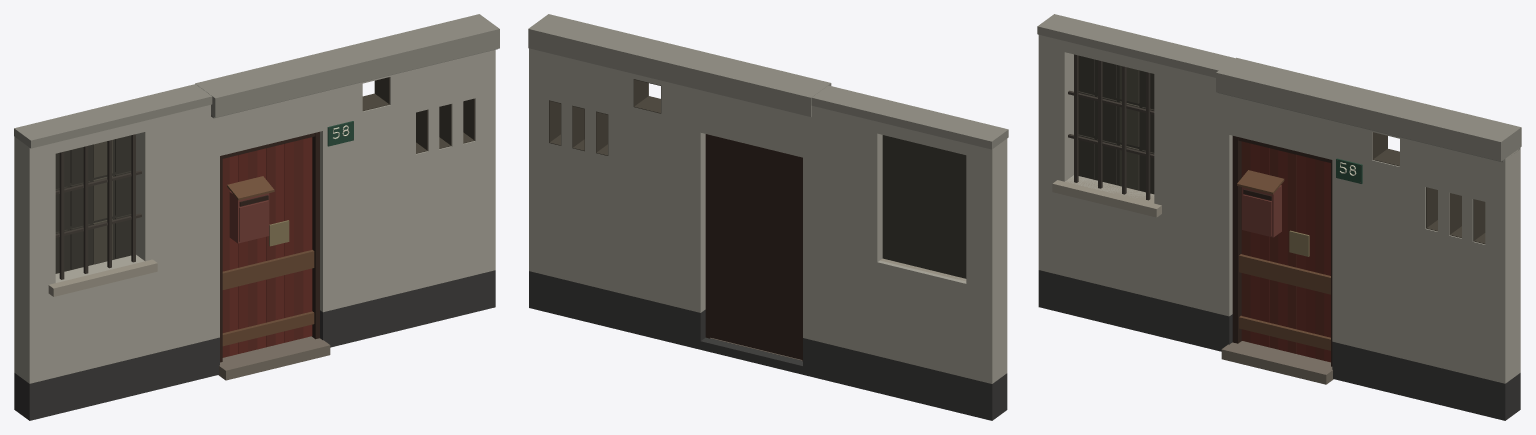
Rendered from yangpu-longjiang-58-courtyard-gate-lod.glb.
3 renders of one model, left to right at view 1: azimuth 30°, elevation 25°; view 2: azimuth 150°, elevation 25°; view 3: azimuth 330°, elevation 25°, orthographic.
Visible parts, largest first — view 1: 龙江路58号住宅院门、门牌与院墙通气孔; view 2: 龙江路58号住宅院门、门牌与院墙通气孔; view 3: 龙江路58号住宅院门、门牌与院墙通气孔.
Boxes of the visible parts, x1=… form: 龙江路58号住宅院门、门牌与院墙通气孔: x1=14, y1=14, x2=499, y2=420; 龙江路58号住宅院门、门牌与院墙通气孔: x1=528, y1=14, x2=1008, y2=420; 龙江路58号住宅院门、门牌与院墙通气孔: x1=1037, y1=14, x2=1521, y2=420.
Size of the model in its own units: 4.56 by 2.64 by 0.389.
